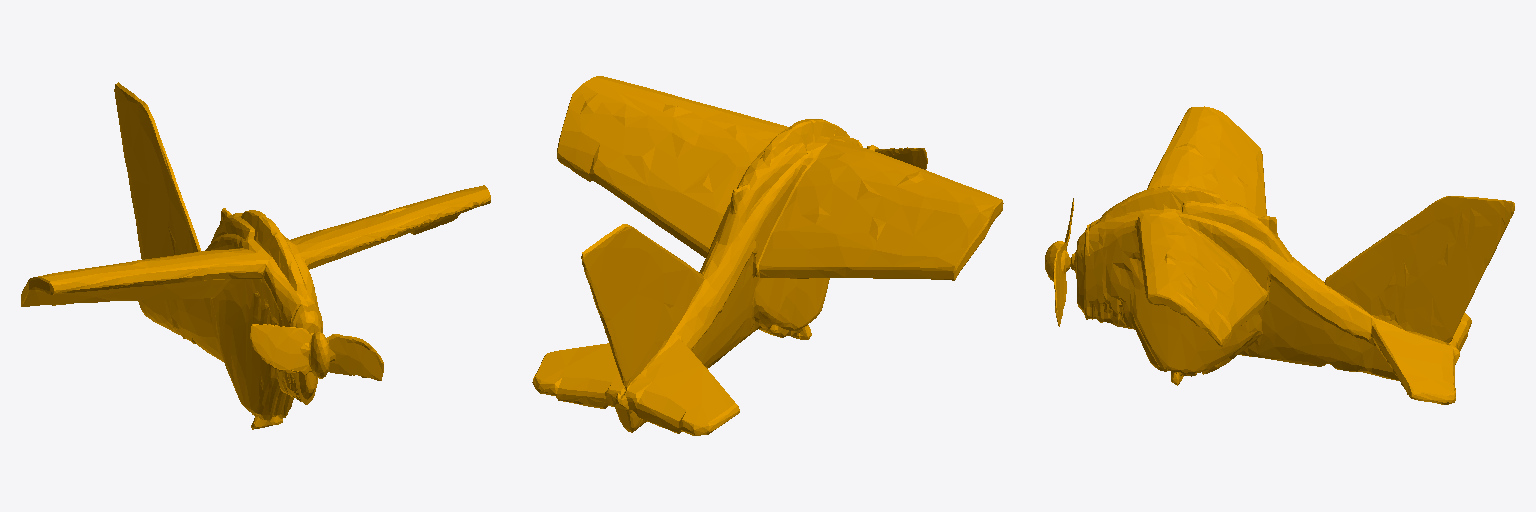
robot.urdf — 1nbuaiv2:
<?xml version='1.0'?>

<robot name="1nbuaiv2">
    <static>false</static>
    <link name="link">
        <inertial>
            <mass value="0.16749992947115822"/>
            <inertia ixx="0.00023849224585480885" ixy="-8.271815702838373e-06" ixz="5.059647285343463e-06"
                     iyy="0.00015091125209174865" iyz="4.9414772651490306e-05" izz="0.00027740767060313294"/>
        </inertial>
        <collision name="collision">
            <geometry>
                <mesh filename="package://miscnet/train/1nbuaiv2/collision_model_vhacd.obj"/>
            </geometry>
        </collision>
        <visual name="visual">
            <geometry>
                <mesh filename="package://miscnet/train/1nbuaiv2/visual_model.obj"/>
            </geometry>
        </visual>
    </link>
</robot>

--- Render facts (derived) ---
Views: 3 orthographic renders of the robot side by side, from view 1: azimuth 30°, elevation 25°; view 2: azimuth 150°, elevation 25°; view 3: azimuth 270°, elevation 25°.
Robot: 1nbuaiv2 — 1 links, 0 joints (none); root link link; default pose: every joint at zero.
Visible links, largest first — view 1: link; view 2: link; view 3: link.
Link boxes in pixels (x1,y1,x2,y2): link: (21,82,490,429); link: (532,76,1003,435); link: (1045,106,1514,404).
Bounding box of the posed robot: 0.161 × 0.1632 × 0.0754 m (x, y, z).
Meshes: 1 distinct files referenced, 1 mesh visuals loaded (1 OBJ).
